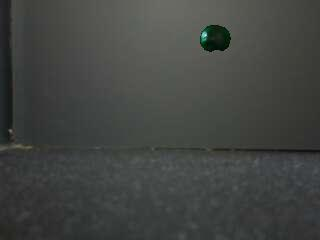Lime: (200, 25, 232, 52)
